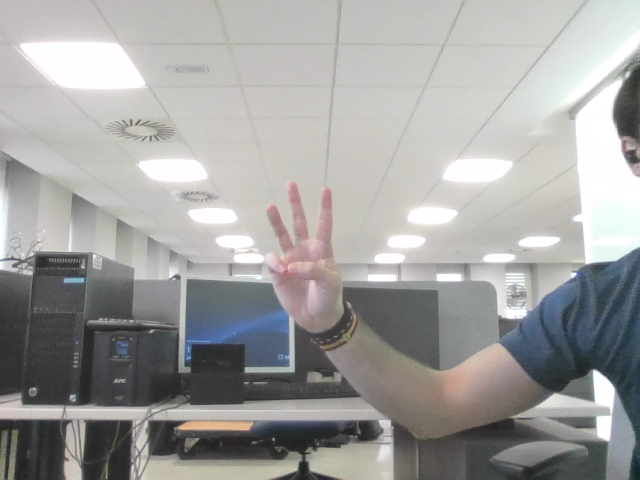3Dedos: (274, 193, 328, 297)
